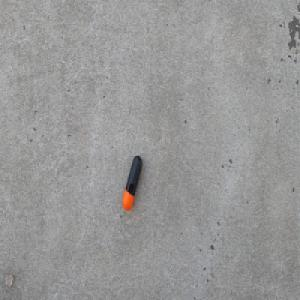PlasticPart: (121, 154, 142, 211)
